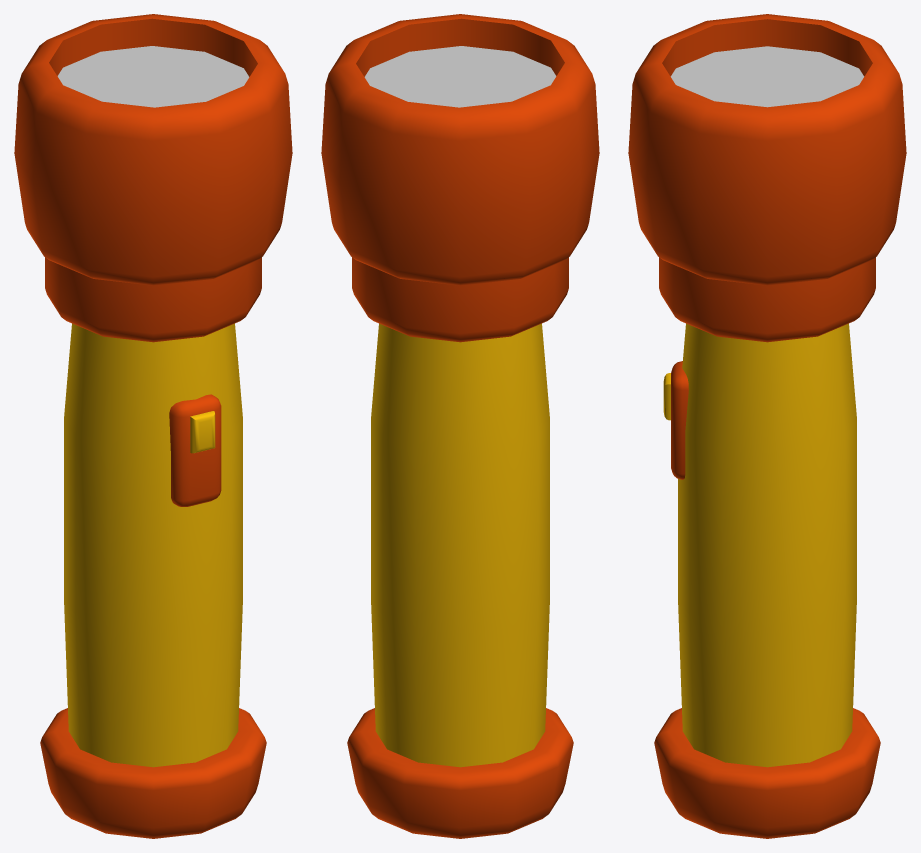
The model's file is Handle Light_1.fbx.
3 renders of one model, left to right at view 1: azimuth 30°, elevation 25°; view 2: azimuth 150°, elevation 25°; view 3: azimuth 270°, elevation 25°, orthographic.
Parts seen in each view (by area): view 1: Handle Light_1; view 2: Handle Light_1; view 3: Handle Light_1.
Boxes of the visible parts, x1=… form: Handle Light_1: x1=14, y1=14, x2=292, y2=838; Handle Light_1: x1=321, y1=14, x2=599, y2=838; Handle Light_1: x1=628, y1=14, x2=906, y2=838.
Size of the model in its own units: 0.0585 by 0.1712 by 0.0585.
